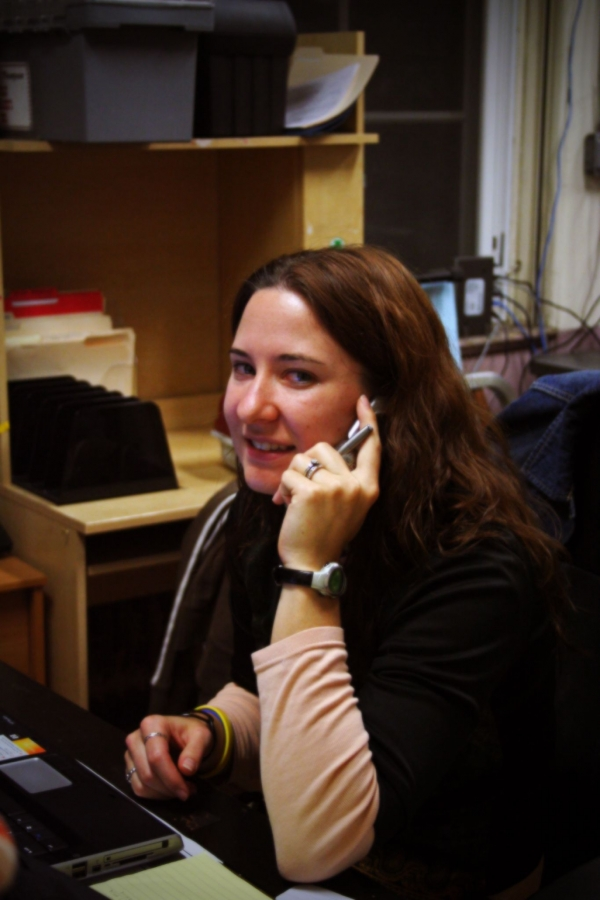phone: (306, 403, 403, 521)
talk: (225, 332, 393, 570)
